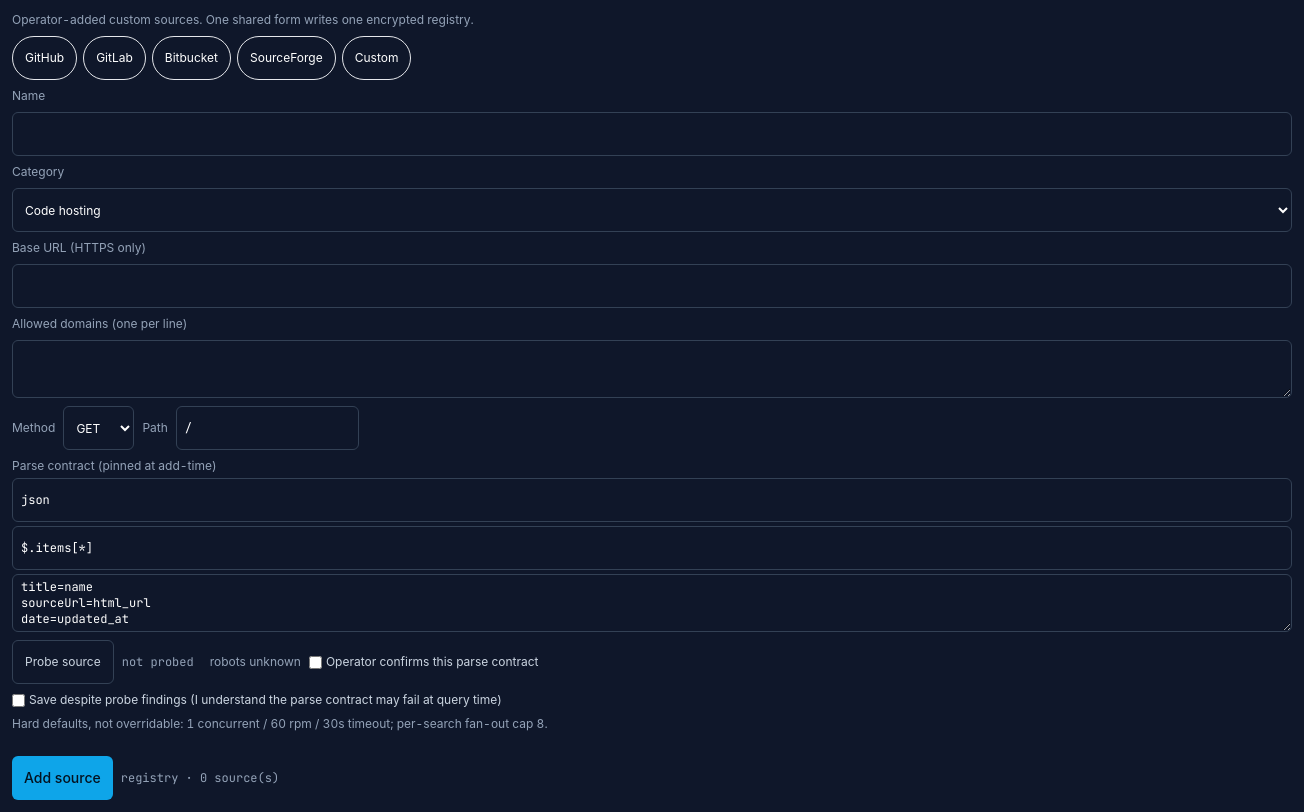
f58 shared SourceForm (two mount points, one store) › a preset pins its allowlist: the field is read-only and the marker shows
What coordinates should you click on to do the following:
click the button with test id "source-form-preset-code-hosting-github"
I would click on:
 (45, 58)
Its box is [12,36,77,80].
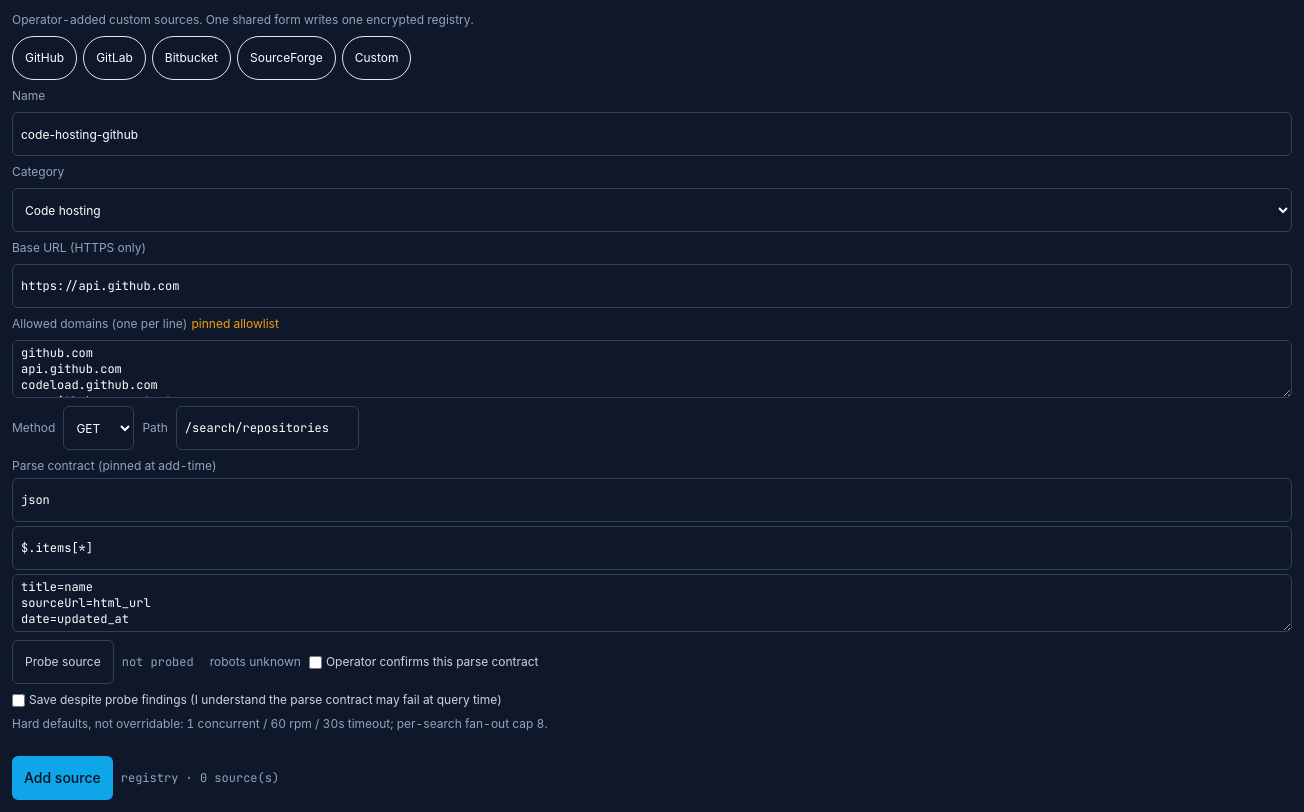
Result: the text with test id "source-form-allowlist-pinned" reads "pinned allowlist" at [192,316,279,331]
Result: the field with test id "source-form-baseurl" holds "https://api.github.com" at [12,264,1292,308]
